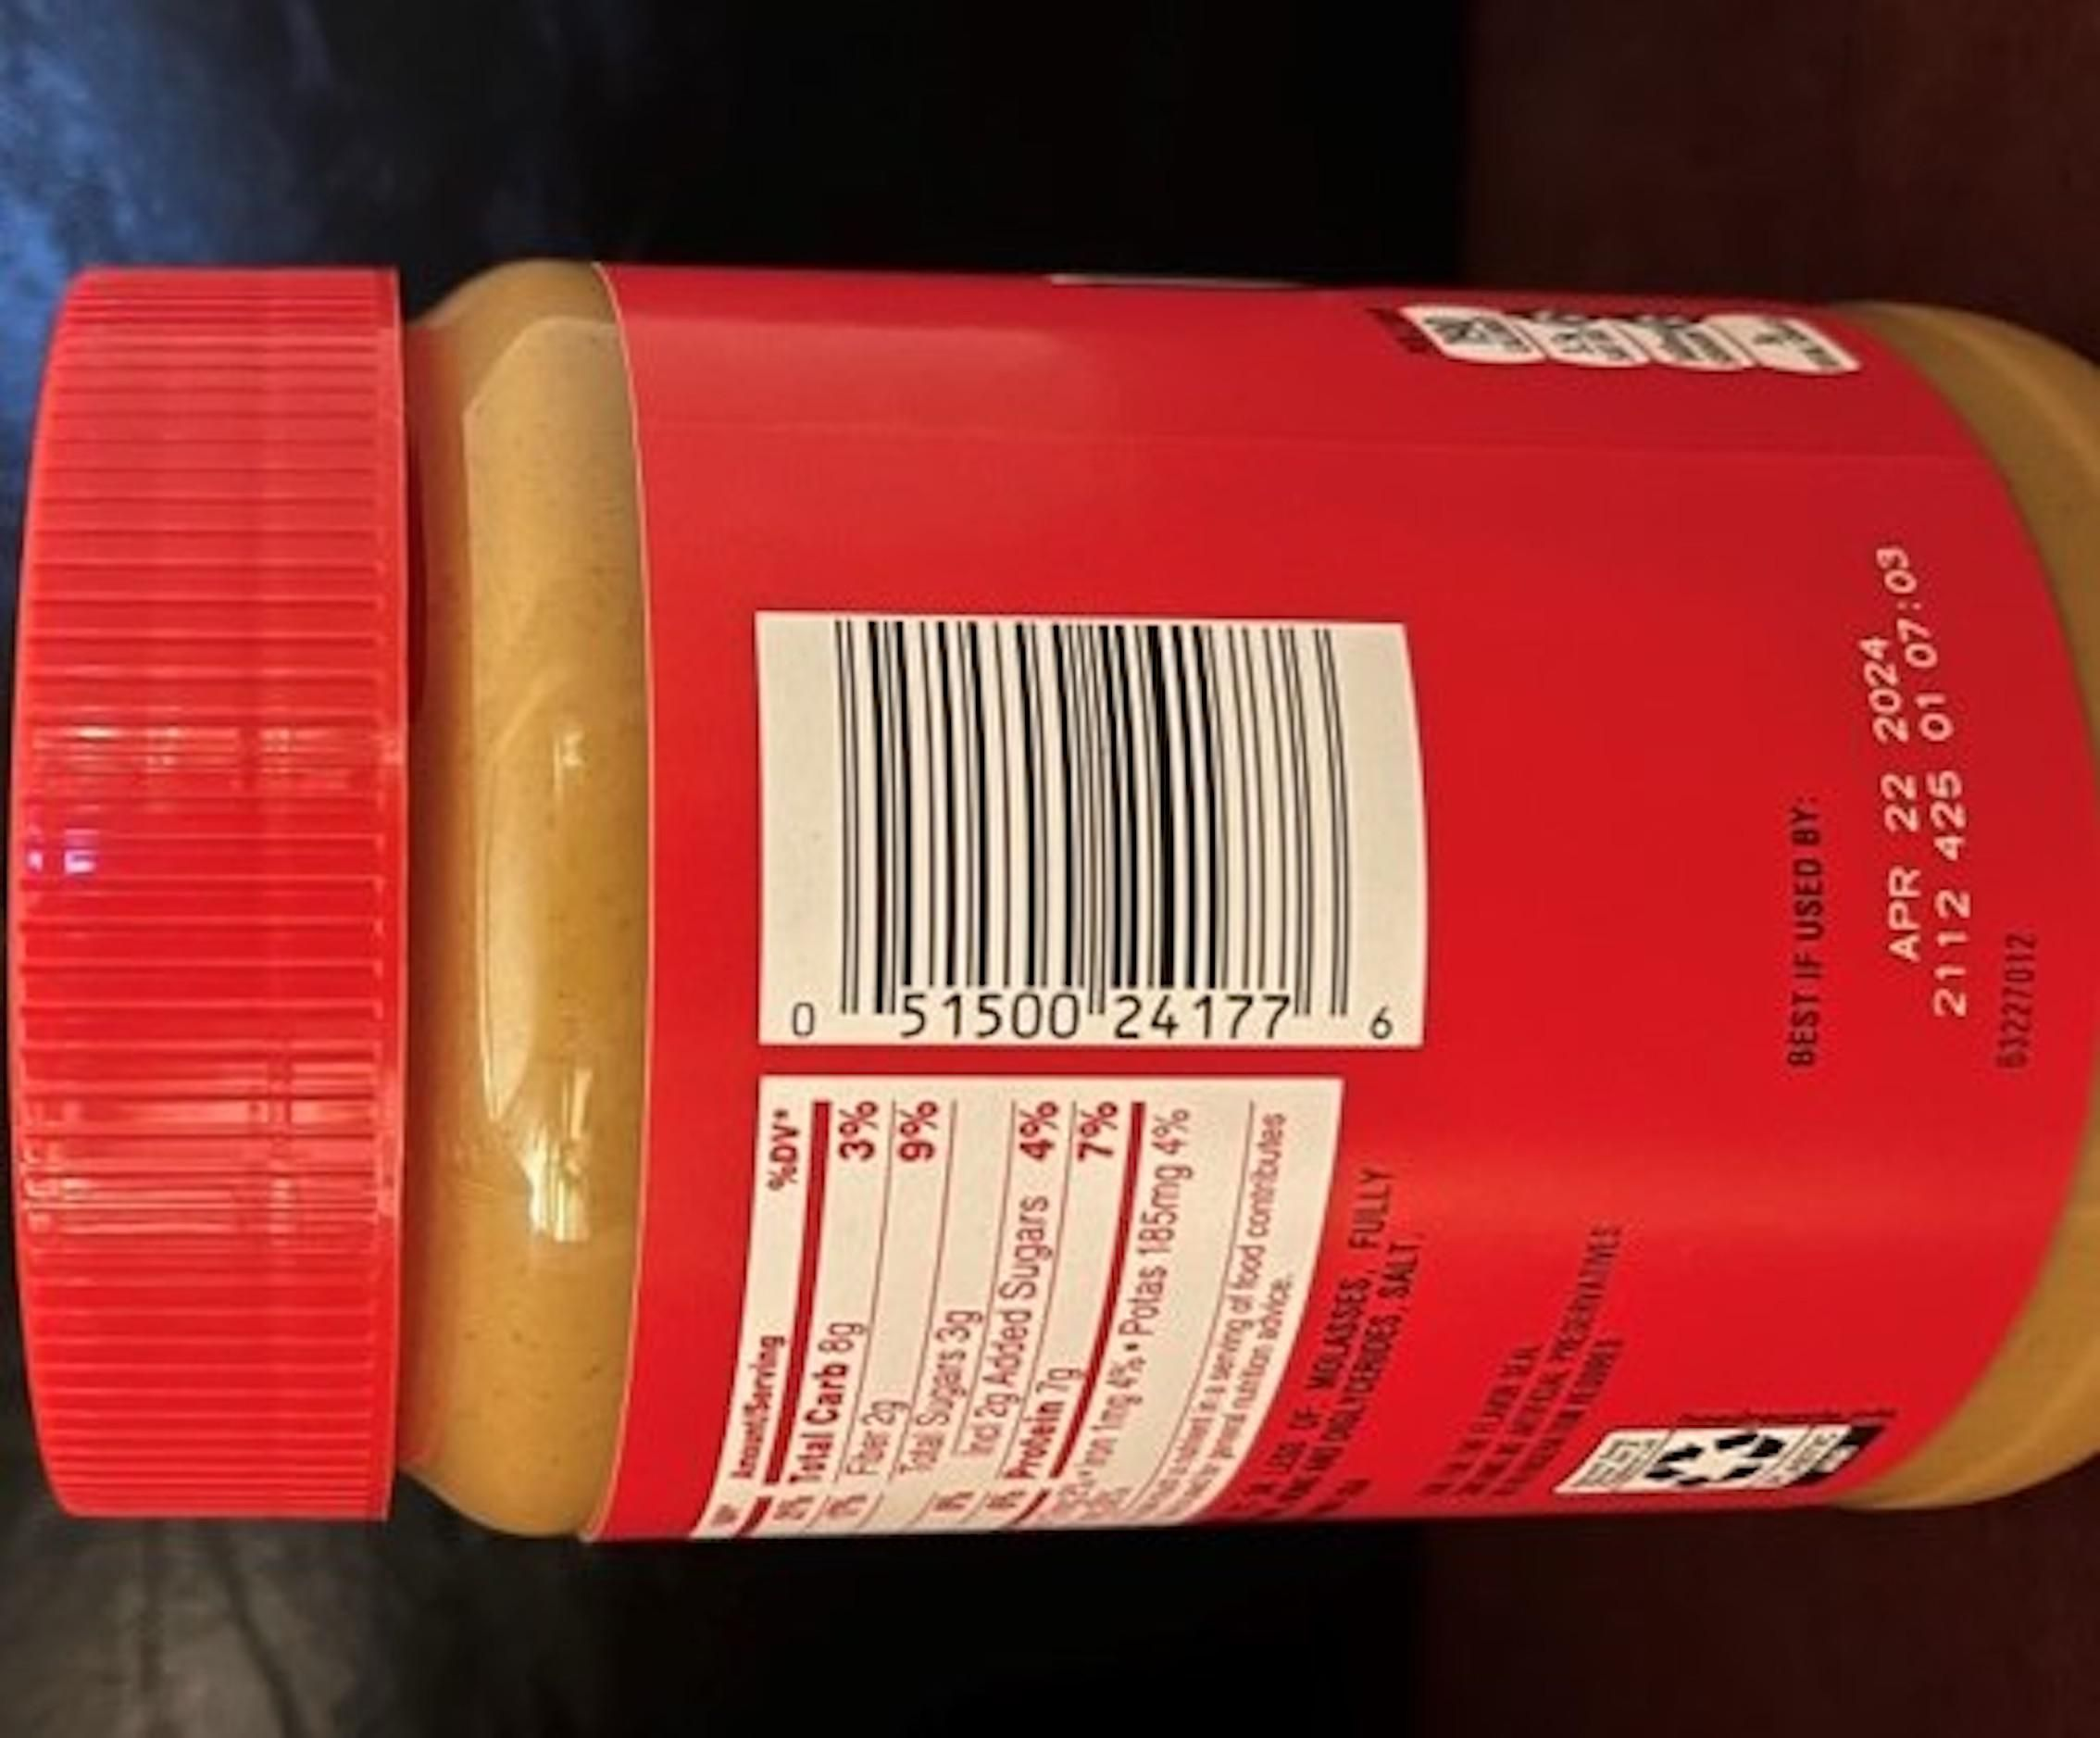Barcode: (827, 614, 1357, 1037)
